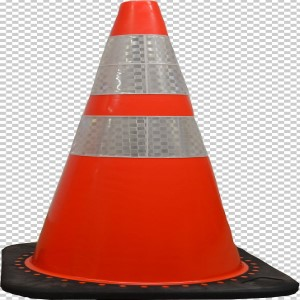traffic cone: (1, 1, 300, 300)
